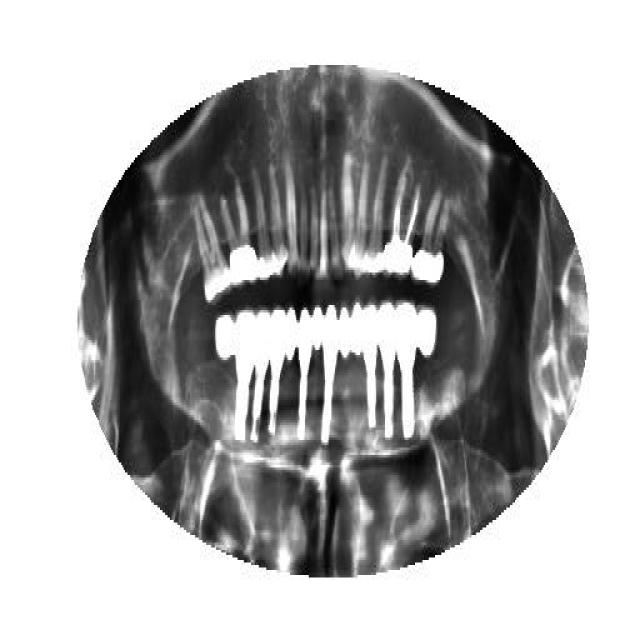Fillings: (220, 178, 259, 288), (412, 185, 452, 287), (415, 298, 439, 370), (214, 310, 235, 370), (337, 305, 352, 360), (351, 302, 364, 362), (284, 310, 298, 362), (312, 305, 322, 357)
Implant: (384, 172, 421, 280), (234, 308, 258, 450), (378, 298, 398, 440), (250, 308, 270, 440), (397, 298, 415, 438), (268, 302, 286, 440), (322, 307, 338, 445), (364, 300, 378, 432), (298, 310, 312, 440)
